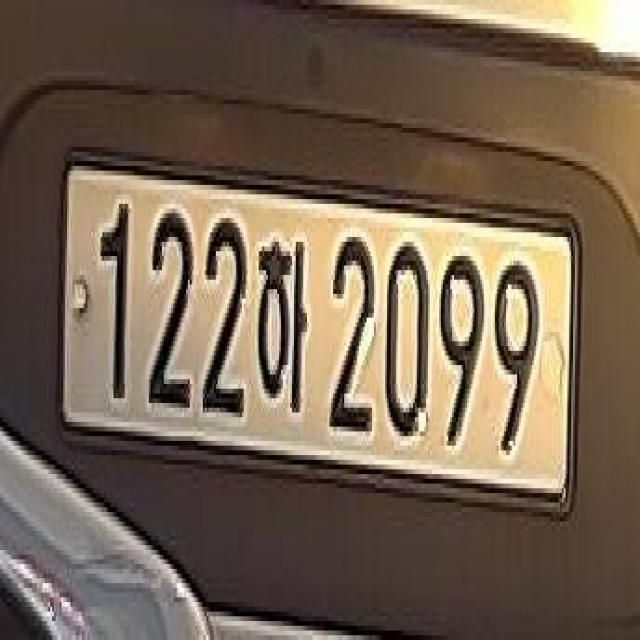illegal_plate: (56, 146, 576, 529)
